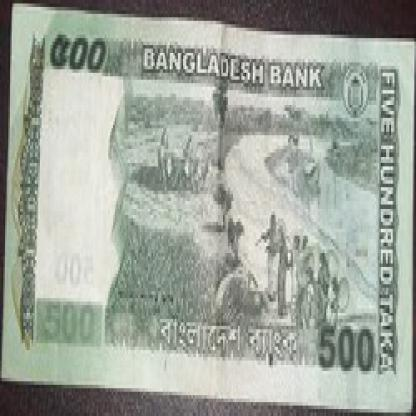500 taka: (314, 308, 388, 392), (31, 27, 119, 80)
currency: (10, 11, 413, 406)
